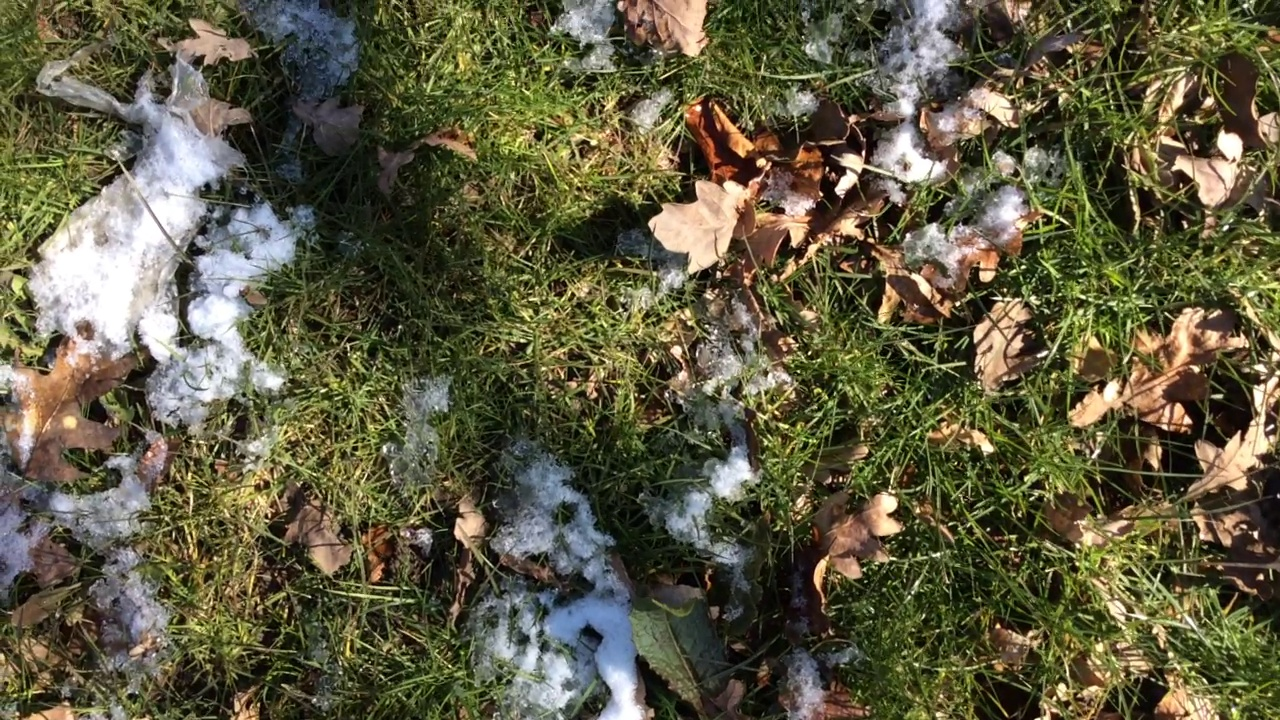rumex: (621, 589, 740, 720)
